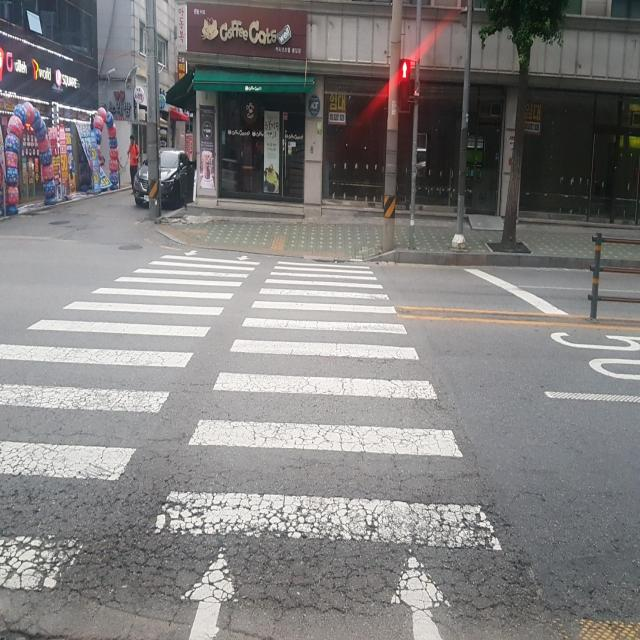빨간불: (399, 57, 412, 115)
횡단보도: (0, 247, 504, 640)
